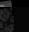eye: (14, 7, 29, 32)
potion: (0, 0, 14, 7)
